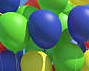Balloon: (27, 9, 62, 49), (1, 12, 32, 52), (52, 43, 84, 71), (21, 51, 52, 71)
